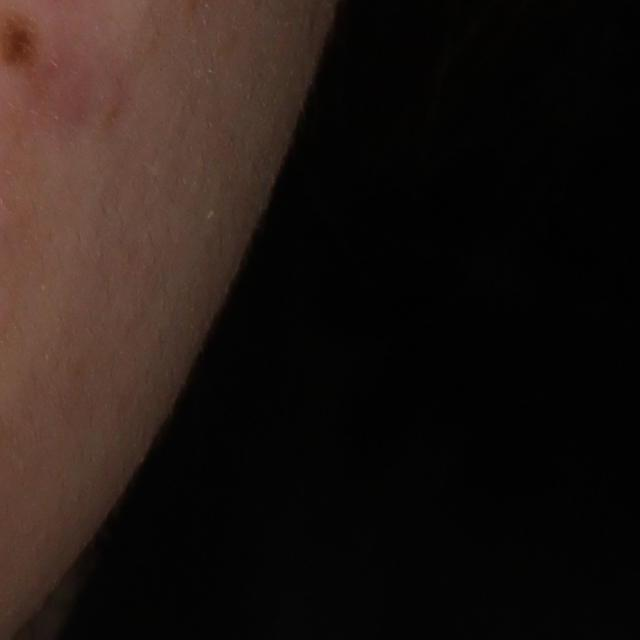nevus: (2, 20, 36, 63)
